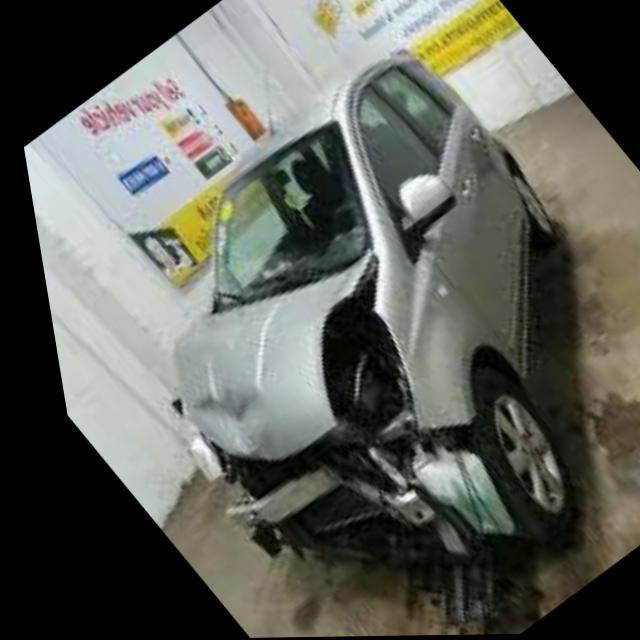dislocated part: (155, 260, 496, 563)
